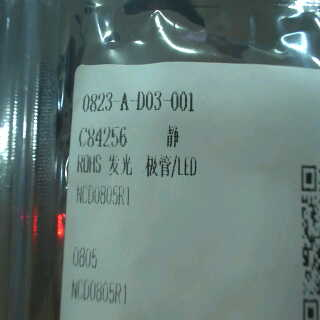LED: (104, 149, 202, 178)
